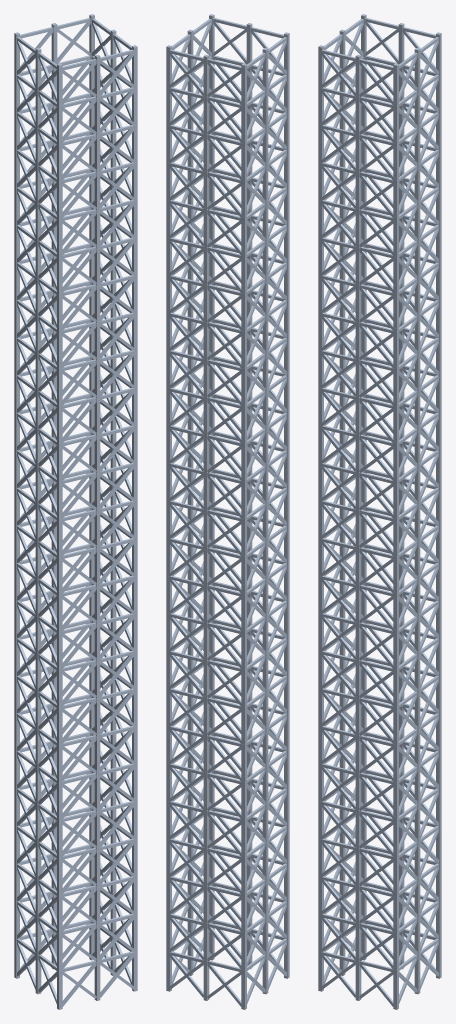
File: thanthap_1.fbx
3 renders of one model, left to right at view 1: azimuth 30°, elevation 25°; view 2: azimuth 150°, elevation 25°; view 3: azimuth 330°, elevation 25°, orthographic.
Visible parts, largest first — view 1: thanthap; view 2: thanthap; view 3: thanthap.
Boxes of the visible parts, x1,y1,x2,y2 form: thanthap: [14, 14, 137, 1009]; thanthap: [166, 14, 289, 1009]; thanthap: [318, 14, 441, 1009].
Bounding box in the file's own units: 251 × 2887 × 251.
